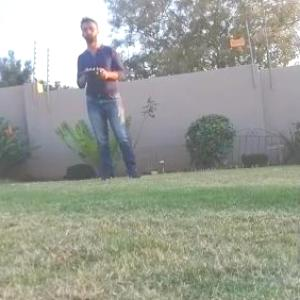follow: (73, 9, 149, 186)
